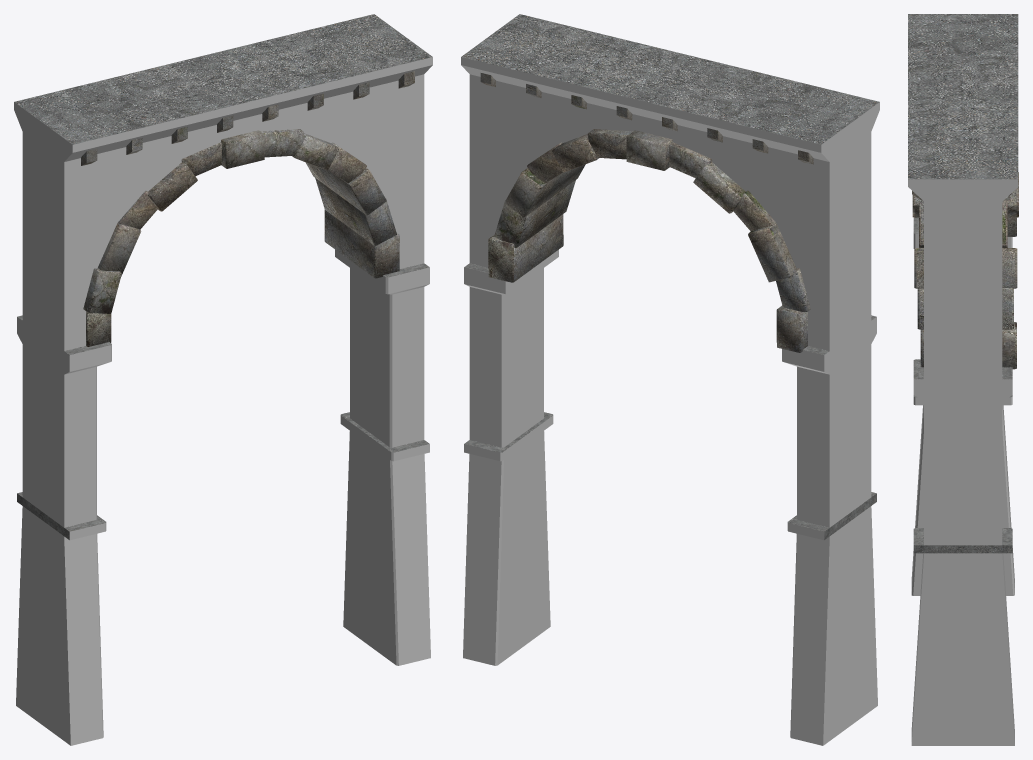
File: Ally_Arches.fbx
3 renders of one model, left to right at view 1: azimuth 30°, elevation 25°; view 2: azimuth 150°, elevation 25°; view 3: azimuth 270°, elevation 25°, orthographic. The views are drawn at different scales.
Parts seen in each view (by area): view 1: Ally_Arches; view 2: Ally_Arches; view 3: Ally_Arches.
Part boxes in pixels (box(x1,y1,x2,y2)): Ally_Arches: box(14, 14, 432, 745); Ally_Arches: box(461, 14, 879, 745); Ally_Arches: box(908, 14, 1018, 745).
Size of the model in its own units: 250 by 400 by 70.85.
